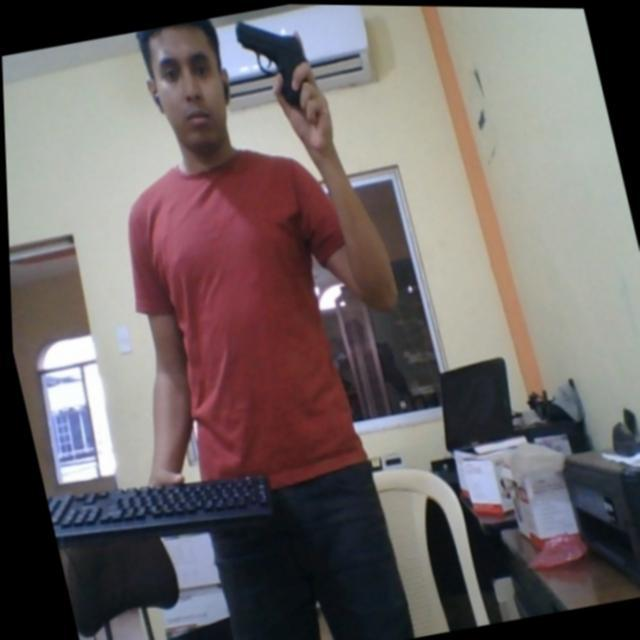weapon: (231, 6, 319, 117)
